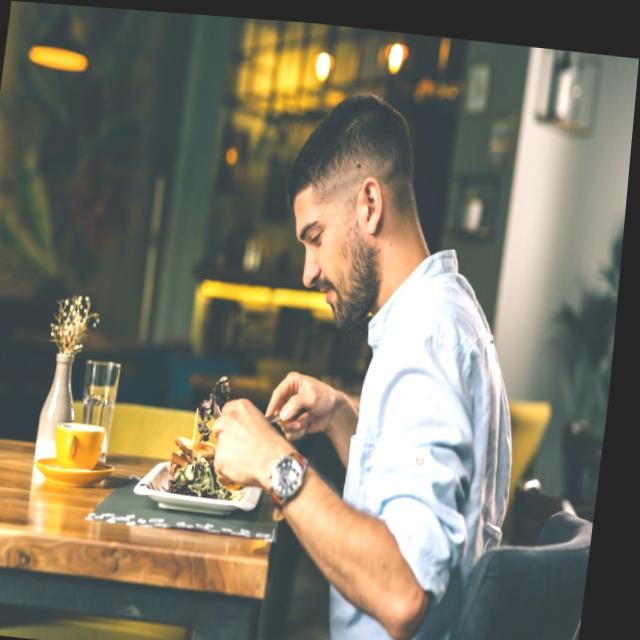eating-person: (152, 50, 567, 640)
